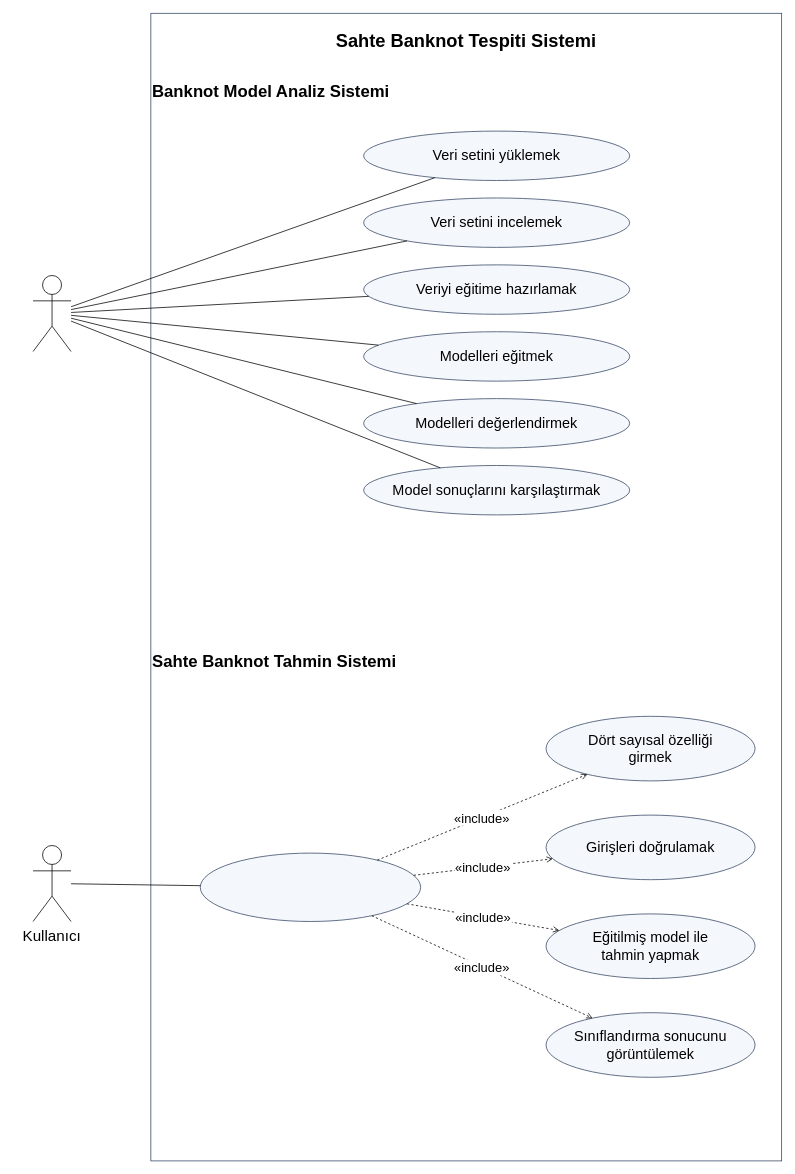
Some shapes in this 795 by 1174 pixel diagram are drawn without their labels. Each missing label, with the centre of its shape:
Araştırmacı: (x=51, y=313)
Banknotu sınıflandırmak: (x=310, y=887)
